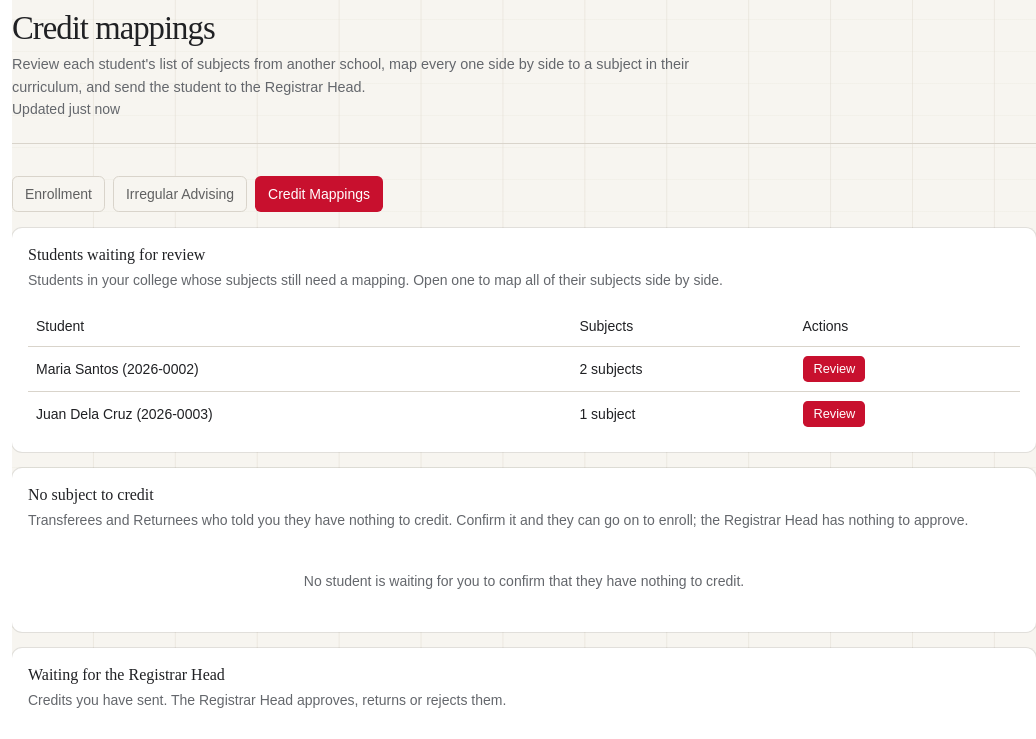
Test: ProgramChairCreditMappingsWorkspace › opens one student's side-by-side screen from the queue
Click the button with aria-label "Review Maria Santos" at (834, 369), box [802,355,866,383]
(page scrolled)
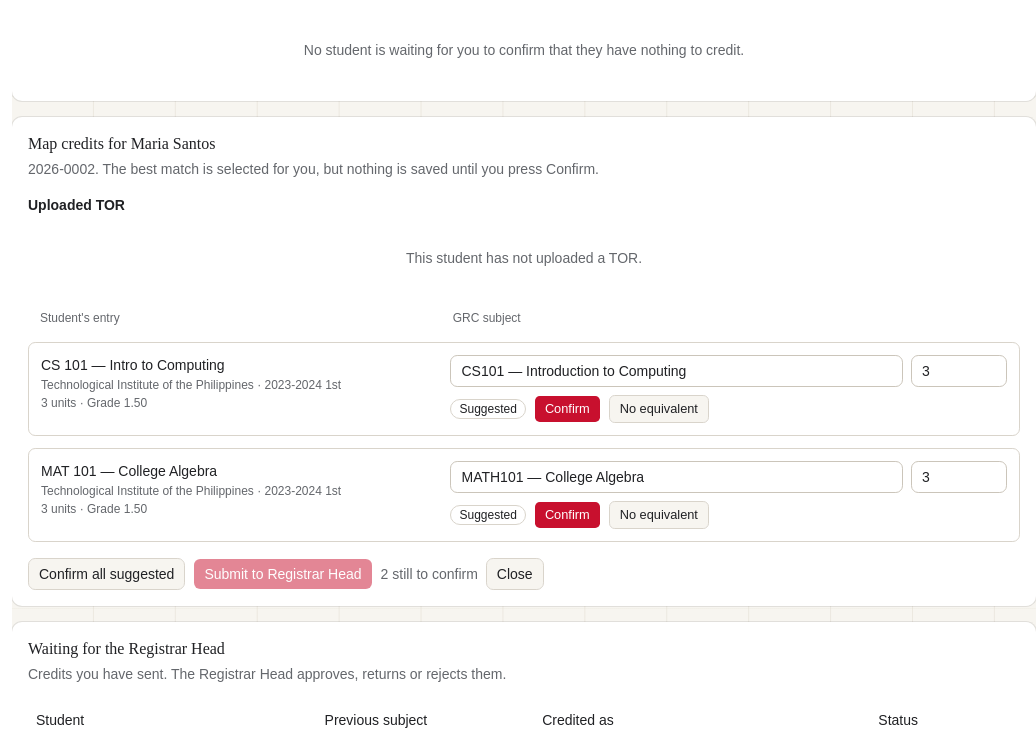
Result: the heading "Map credits for Maria Santos" is shown at [28,135,216,152]
Result: the dropdown named "Subject for CS 101 — Intro to Computing" is shown at [450,355,903,387]
